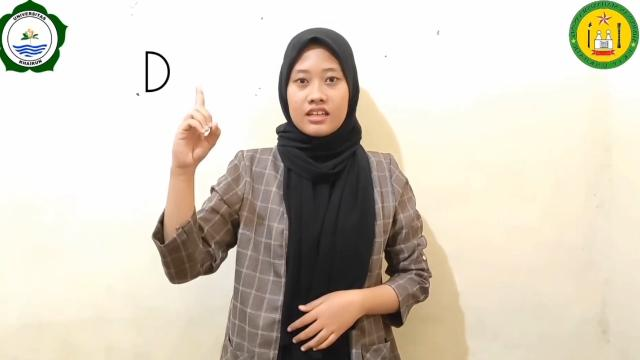D: (168, 84, 222, 166)
